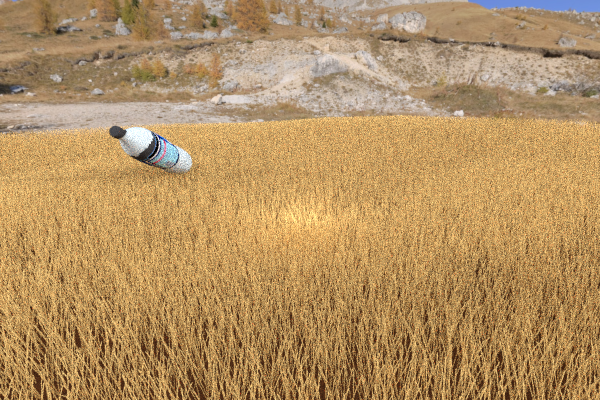Plastic Bottle: (109, 125, 192, 174)
